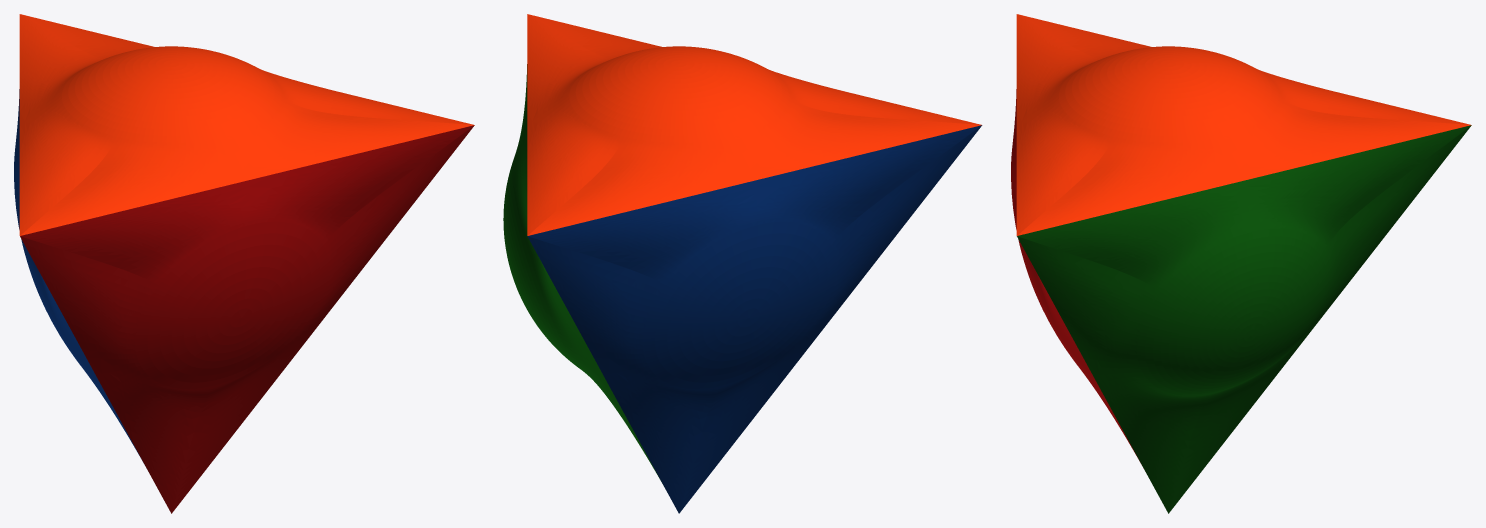
The model's file is 2_1_1_2_tetrahedron.obj.
3 renders of one model, left to right at view 1: azimuth 30°, elevation 25°; view 2: azimuth 150°, elevation 25°; view 3: azimuth 270°, elevation 25°, orthographic.
Visible parts, largest first — view 1: Level_1_-_level_1_front_Level_1_-_level_1_front.002, Level_2_-_level_2_top_Level_2_-_level_2_top.001, Level_1_-_level_1_left_Level_1_-_level_1_left.002; view 2: Level_1_-_level_1_left_Level_1_-_level_1_left.002, Level_2_-_level_2_top_Level_2_-_level_2_top.001, Level_2_-_level_2_right_Level_2_-_level_2_right.001; view 3: Level_2_-_level_2_right_Level_2_-_level_2_right.001, Level_2_-_level_2_top_Level_2_-_level_2_top.001, Level_1_-_level_1_front_Level_1_-_level_1_front.002.
Boxes of the visible parts, bbox=[...] form: Level_1_-_level_1_front_Level_1_-_level_1_front.002: bbox=[20, 125, 474, 513]; Level_2_-_level_2_top_Level_2_-_level_2_top.001: bbox=[19, 14, 474, 235]; Level_1_-_level_1_left_Level_1_-_level_1_left.002: bbox=[14, 89, 146, 468]; Level_1_-_level_1_left_Level_1_-_level_1_left.002: bbox=[527, 125, 982, 513]; Level_2_-_level_2_top_Level_2_-_level_2_top.001: bbox=[527, 14, 981, 235]; Level_2_-_level_2_right_Level_2_-_level_2_right.001: bbox=[503, 64, 665, 489]; Level_2_-_level_2_right_Level_2_-_level_2_right.001: bbox=[1017, 125, 1471, 513]; Level_2_-_level_2_top_Level_2_-_level_2_top.001: bbox=[1016, 14, 1471, 235]; Level_1_-_level_1_front_Level_1_-_level_1_front.002: bbox=[1011, 89, 1143, 468].
Size of the model in its own units: 0.1 by 0.0946 by 0.0877.
